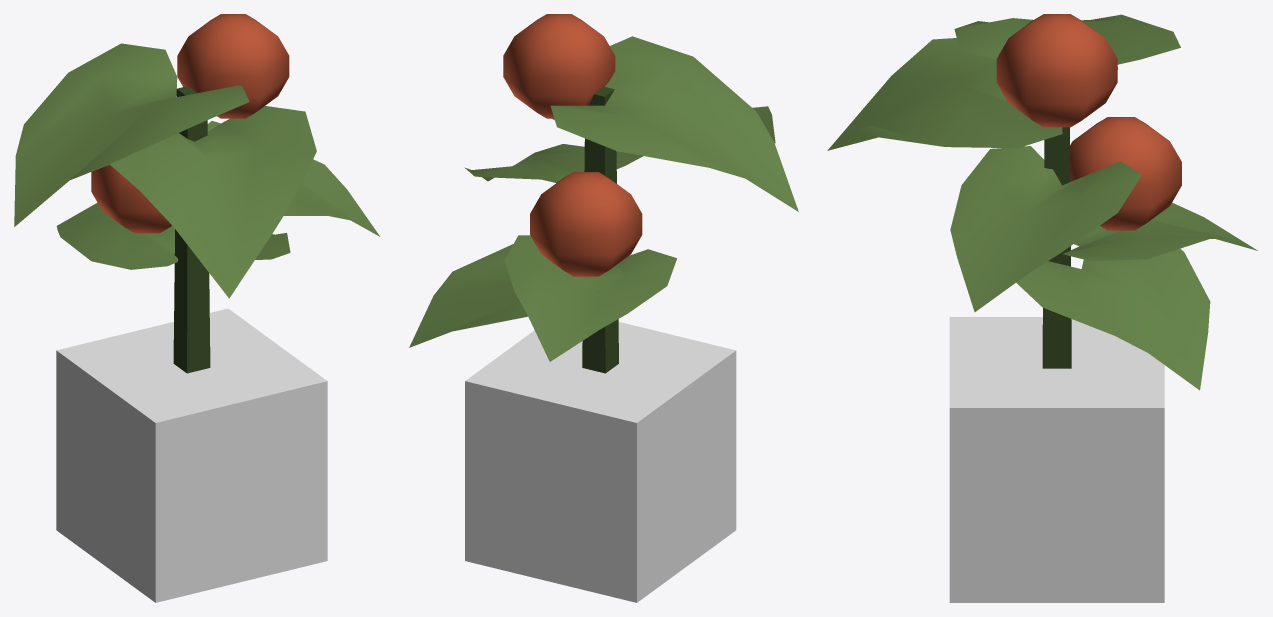
File: plant.fbx
The picture shows the model from 3 angles, left to right: view 1: azimuth 30°, elevation 25°; view 2: azimuth 150°, elevation 25°; view 3: azimuth 270°, elevation 25°; orthographic projection. The views are drawn at different scales.
Visible parts, largest first — view 1: plant, plant.008; view 2: plant, plant.008; view 3: plant.008, plant.
Part boxes in pixels (x1,y1,x2,y2): plant: [56, 308, 327, 602]; plant.008: [14, 14, 380, 373]; plant: [465, 322, 736, 602]; plant.008: [409, 14, 798, 373]; plant.008: [827, 14, 1257, 390]; plant: [949, 317, 1164, 602].
Size of the model in its own units: 80.8 by 118 by 82.29.
